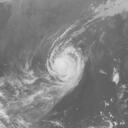cyclone: (46, 47, 84, 85)
